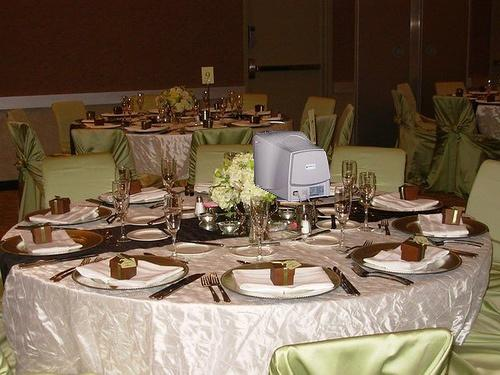tampered: (254, 132, 330, 202)
